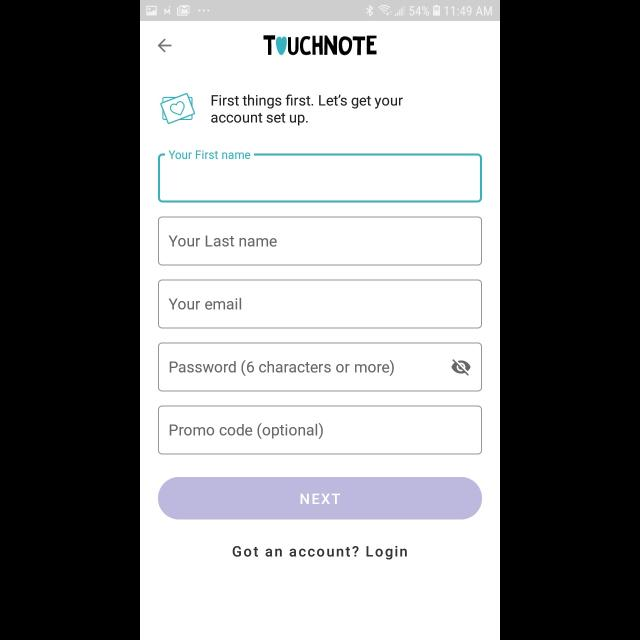icon: (451, 359, 471, 376), (158, 39, 172, 53)
image: (264, 36, 376, 56), (160, 93, 196, 125)
input: (158, 150, 482, 202), (158, 342, 482, 392), (158, 217, 482, 266), (158, 406, 482, 454), (158, 280, 482, 328)
text: (211, 94, 403, 126), (170, 360, 394, 376), (170, 423, 324, 439), (232, 546, 408, 560), (168, 236, 278, 248), (170, 298, 242, 310), (169, 150, 251, 160)
textbutton: (158, 476, 482, 520)
uppertaskbar: (140, 1, 500, 22)
